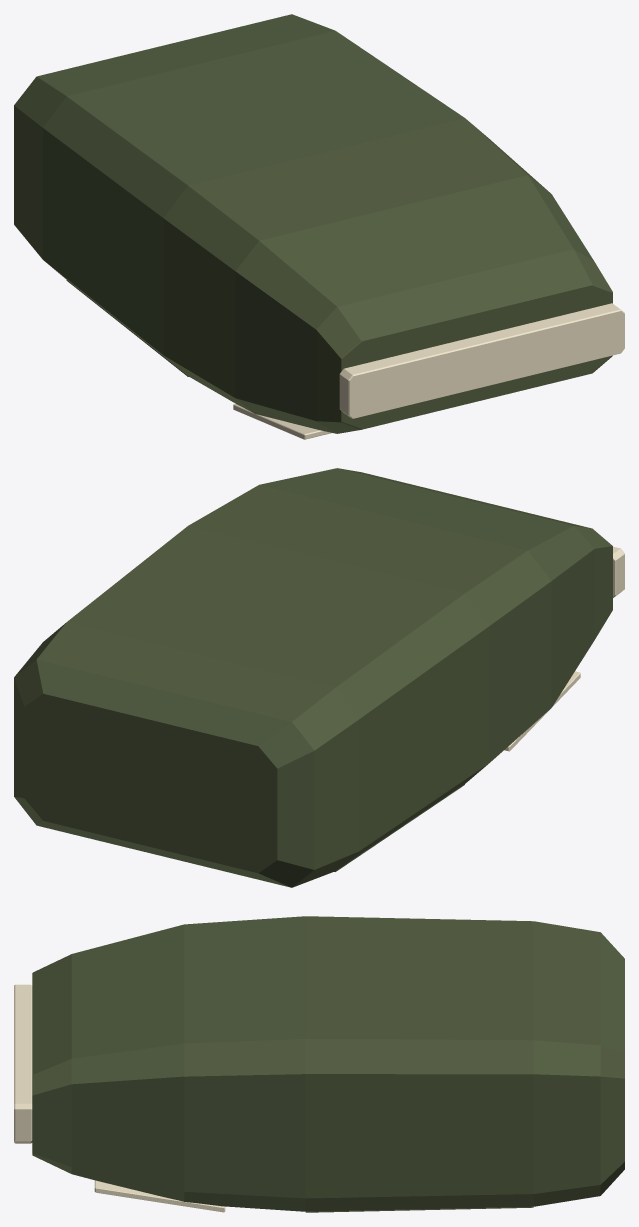
The model's file is popcorn.glb.
The picture shows the model from 3 angles, top to bottom: view 1: azimuth 30°, elevation 25°; view 2: azimuth 150°, elevation 25°; view 3: azimuth 270°, elevation 25°; orthographic projection. The views are drawn at different scales.
Parts seen in each view (by area): view 1: popcorn; view 2: popcorn; view 3: popcorn.
Part boxes in pixels (left/top/right/bottom): popcorn: left=14, top=14, right=624, bottom=439; popcorn: left=14, top=468, right=624, bottom=887; popcorn: left=14, top=916, right=624, bottom=1212.
Bounding box in the file's own units: 0.1236 × 0.0776 × 0.2211.
